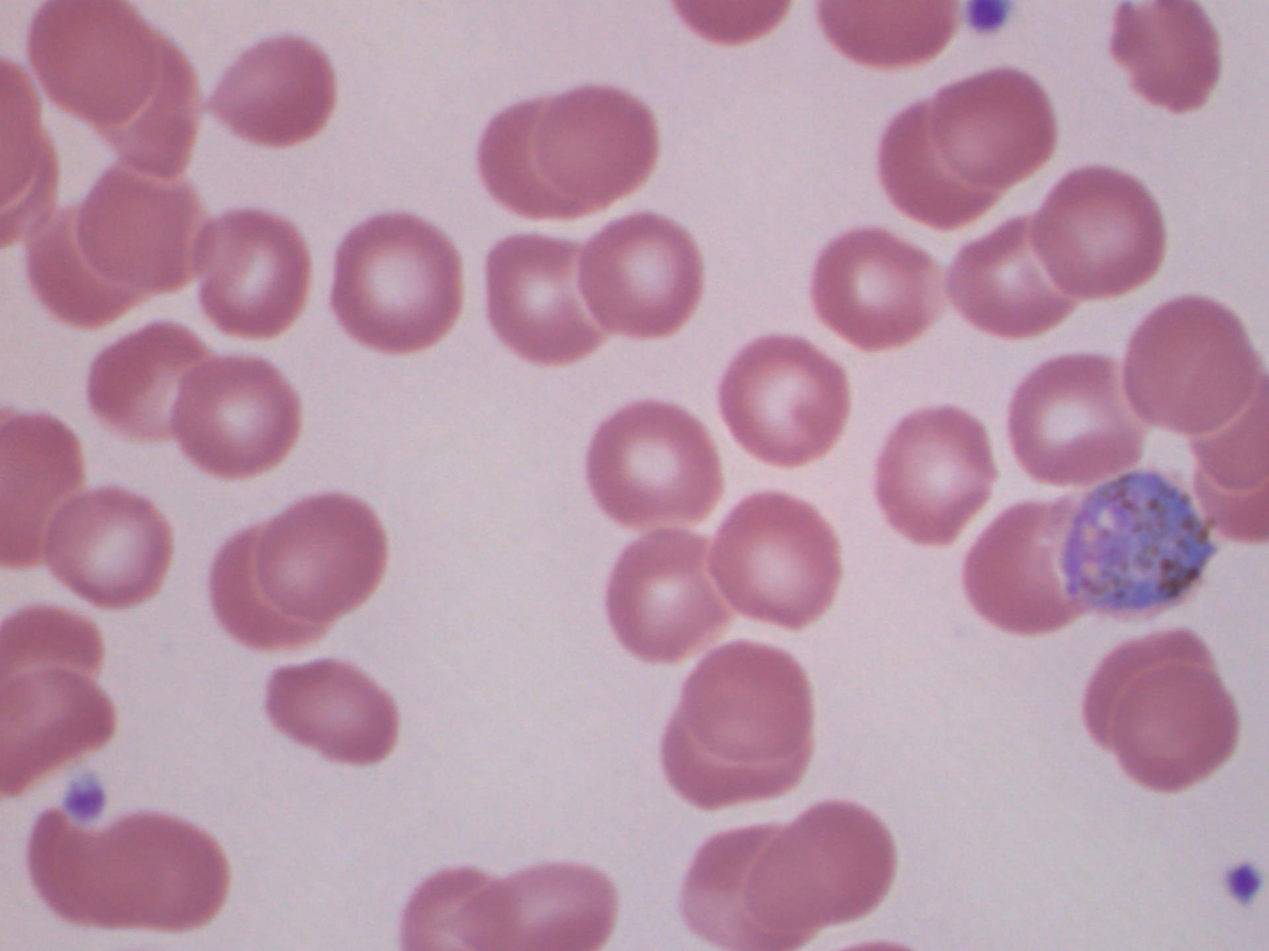Infected: (1054, 463, 1221, 621)
Uninfected: (749, 800, 898, 931), (1117, 294, 1254, 436), (712, 491, 845, 635), (608, 532, 747, 669), (329, 215, 468, 349), (958, 498, 1089, 640), (719, 332, 855, 468), (1011, 352, 1151, 484), (876, 403, 1001, 549), (948, 213, 1095, 337), (486, 238, 624, 370), (258, 491, 387, 623), (1110, 661, 1239, 793), (1036, 166, 1166, 296), (588, 405, 720, 533), (28, 0, 161, 127), (682, 823, 816, 949), (813, 225, 946, 349), (79, 169, 215, 290), (192, 205, 313, 341), (210, 531, 338, 658), (94, 813, 230, 932), (28, 209, 161, 328), (177, 356, 303, 480), (578, 213, 701, 340), (686, 643, 814, 764), (930, 66, 1056, 188), (446, 861, 613, 951), (529, 88, 657, 204), (261, 658, 397, 767), (207, 30, 336, 144), (881, 103, 997, 229), (55, 489, 172, 607), (1105, 0, 1225, 113), (88, 311, 193, 438), (99, 47, 200, 179), (0, 674, 114, 790), (0, 413, 83, 572), (482, 103, 591, 218), (0, 605, 99, 701)
